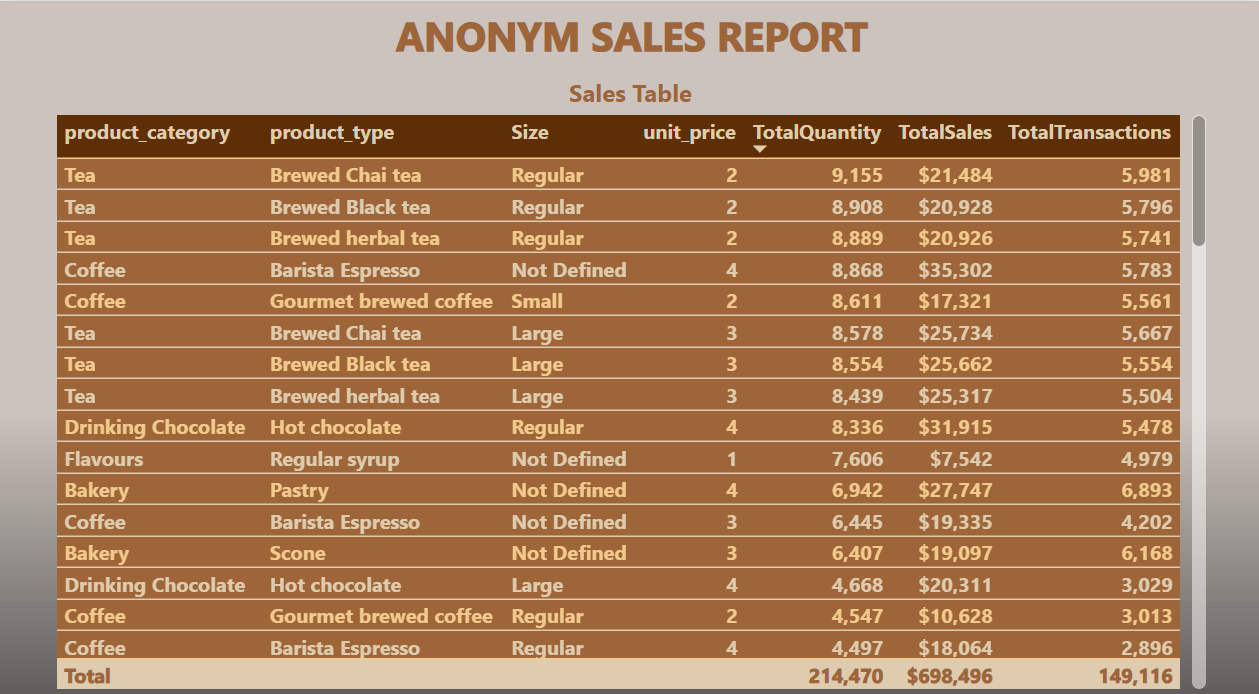

The dashboard page shown, as its layout file describes it:
{"tool":"powerbi","page":{"name":"Report 3","canvas":[841,464],"ordinal":2},"visuals":[{"type":"textbox","box":[99,0,645,59],"z":0},{"type":"tableEx","title":"Sales Table","fields":{"Values":["Coffee Sales Data.product_category","Coffee Sales Data.product_type","Coffee Sales Data.Size","Coffee Sales Data.unit_price","Dax Measure.TotalQuantity","Dax Measure.TotalSales","Dax Measure.TotalTransactions"]},"box":[32,50,777,414],"z":7000}]}

Visuals, with their boxes in screenshot pixels (x1, y1, x2, y2), scaled from the page's 841x464 canvas onto the 1259x694 screenshot:
textbox: bbox=[148, 0, 1114, 88]
"Sales Table" tableEx: bbox=[48, 75, 1211, 693]
